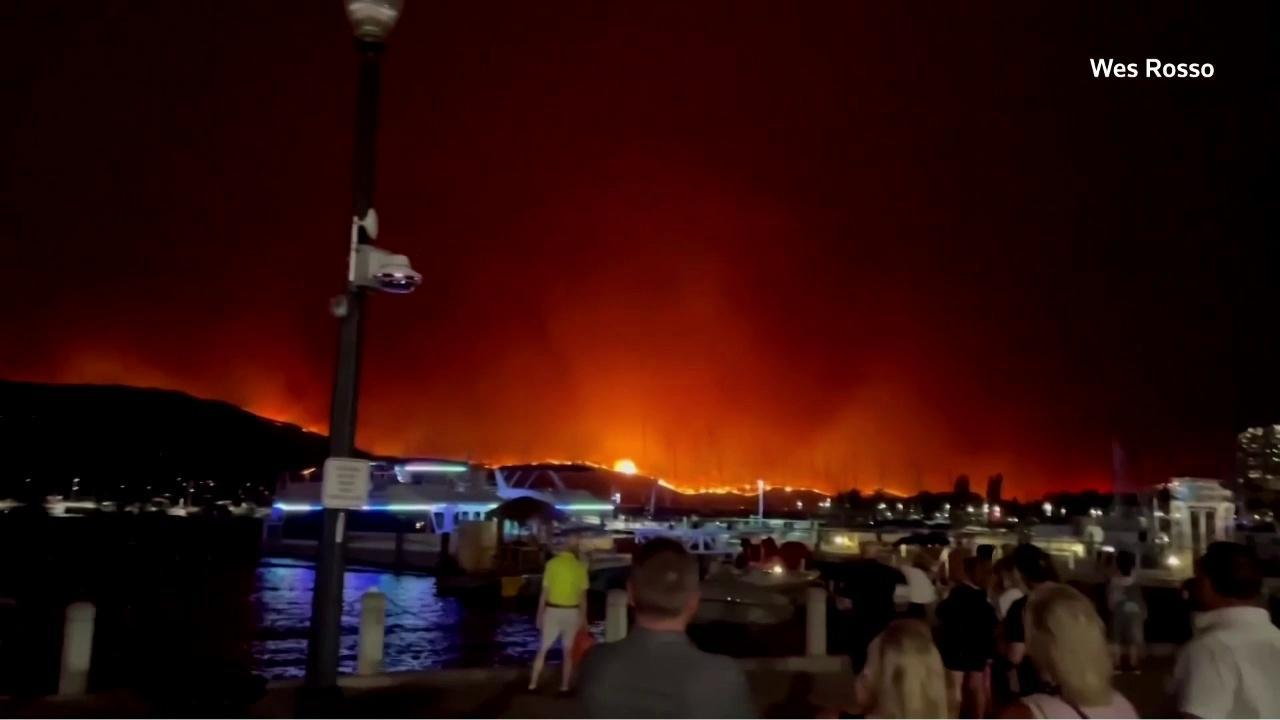fire: (656, 476, 833, 496), (528, 457, 611, 472), (612, 456, 642, 478)
smoke: (0, 0, 1233, 497)
